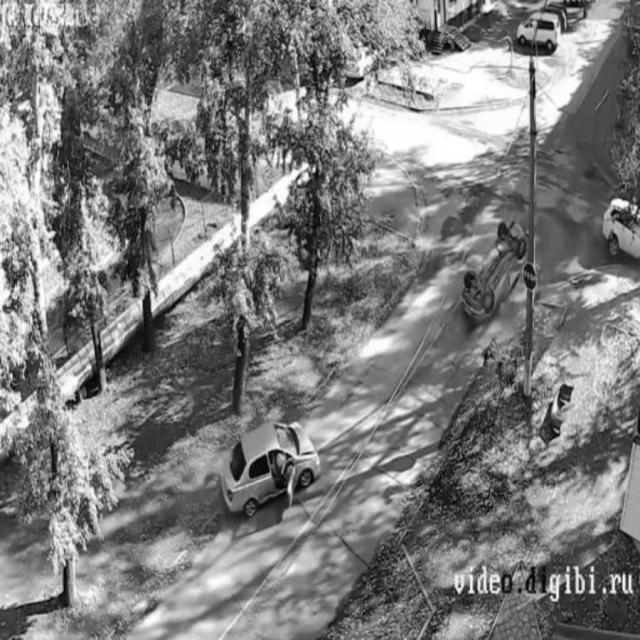vehicle: (225, 421, 318, 523), (464, 222, 522, 326), (605, 196, 639, 258), (517, 10, 562, 54)
